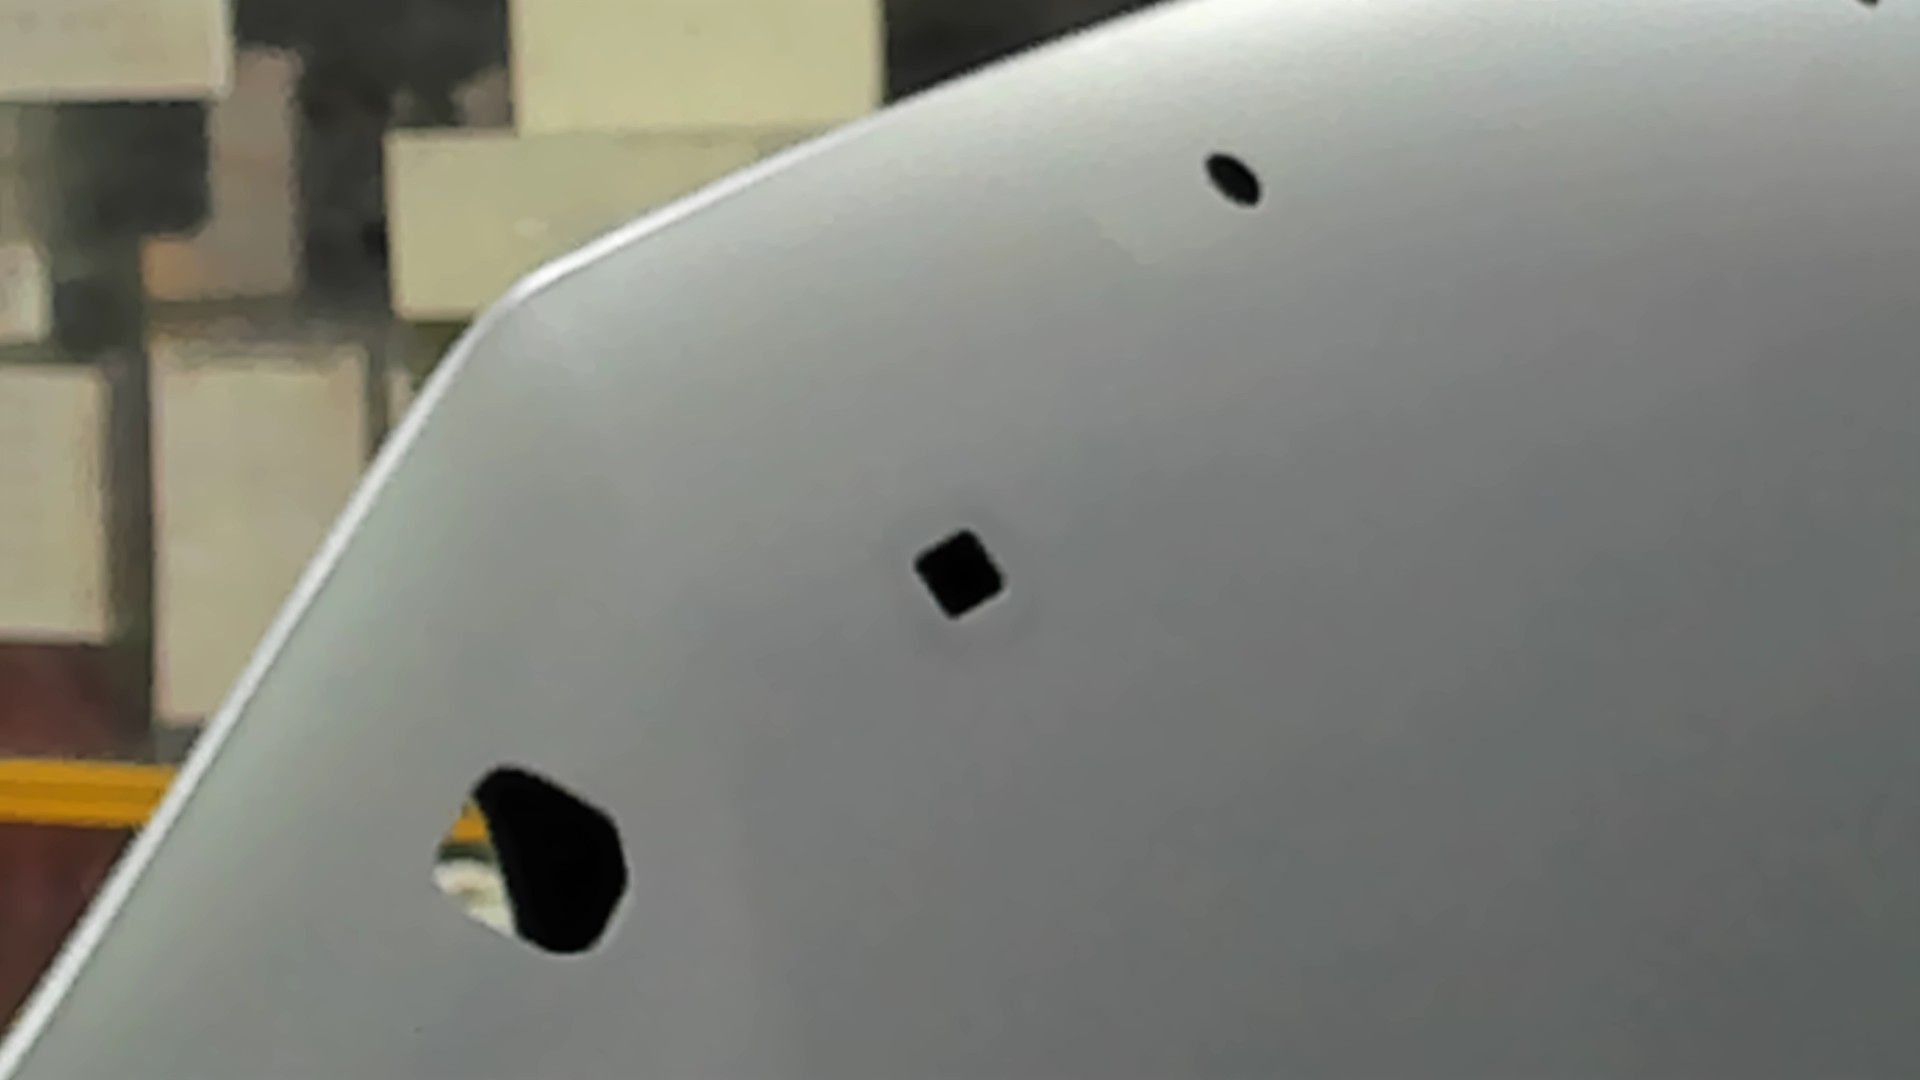chico: (1196, 145, 1266, 215)
grande: (419, 756, 638, 963)
mediano: (905, 522, 1014, 628)
